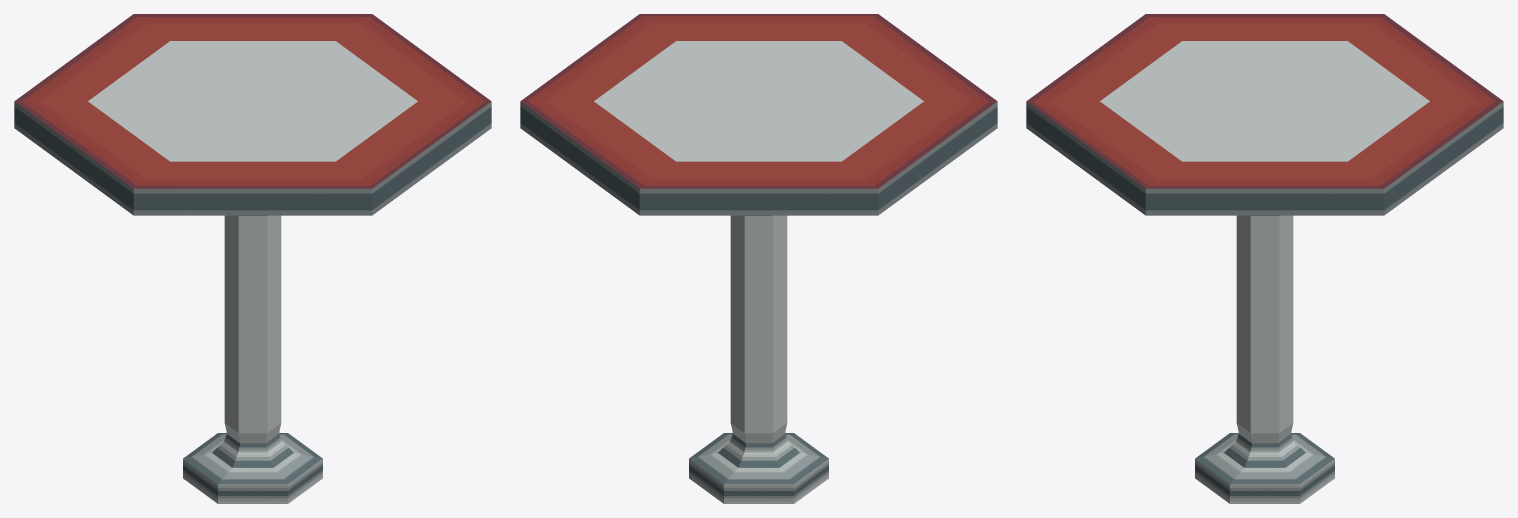
Rendered from mesacafeCOMTXT.fbx.
The picture shows the model from 3 angles, left to right: view 1: azimuth 30°, elevation 25°; view 2: azimuth 150°, elevation 25°; view 3: azimuth 270°, elevation 25°; orthographic projection.
Parts seen in each view (by area): view 1: Cylinder.002, Cylinder, Cylinder.001; view 2: Cylinder.002, Cylinder, Cylinder.001; view 3: Cylinder.002, Cylinder, Cylinder.001.
Boxes of the visible parts, left/top/right/bottom form: Cylinder.002: left=14, top=14, right=491, bottom=188; Cylinder: left=14, top=101, right=491, bottom=443; Cylinder.001: left=183, top=433, right=322, bottom=503; Cylinder.002: left=520, top=14, right=997, bottom=188; Cylinder: left=520, top=101, right=997, bottom=443; Cylinder.001: left=689, top=433, right=828, bottom=503; Cylinder.002: left=1026, top=14, right=1503, bottom=188; Cylinder: left=1026, top=101, right=1503, bottom=443; Cylinder.001: left=1195, top=433, right=1334, bottom=503.
Size of the model in its own units: 755 by 760 by 872.
2 materials, 2 textured.
